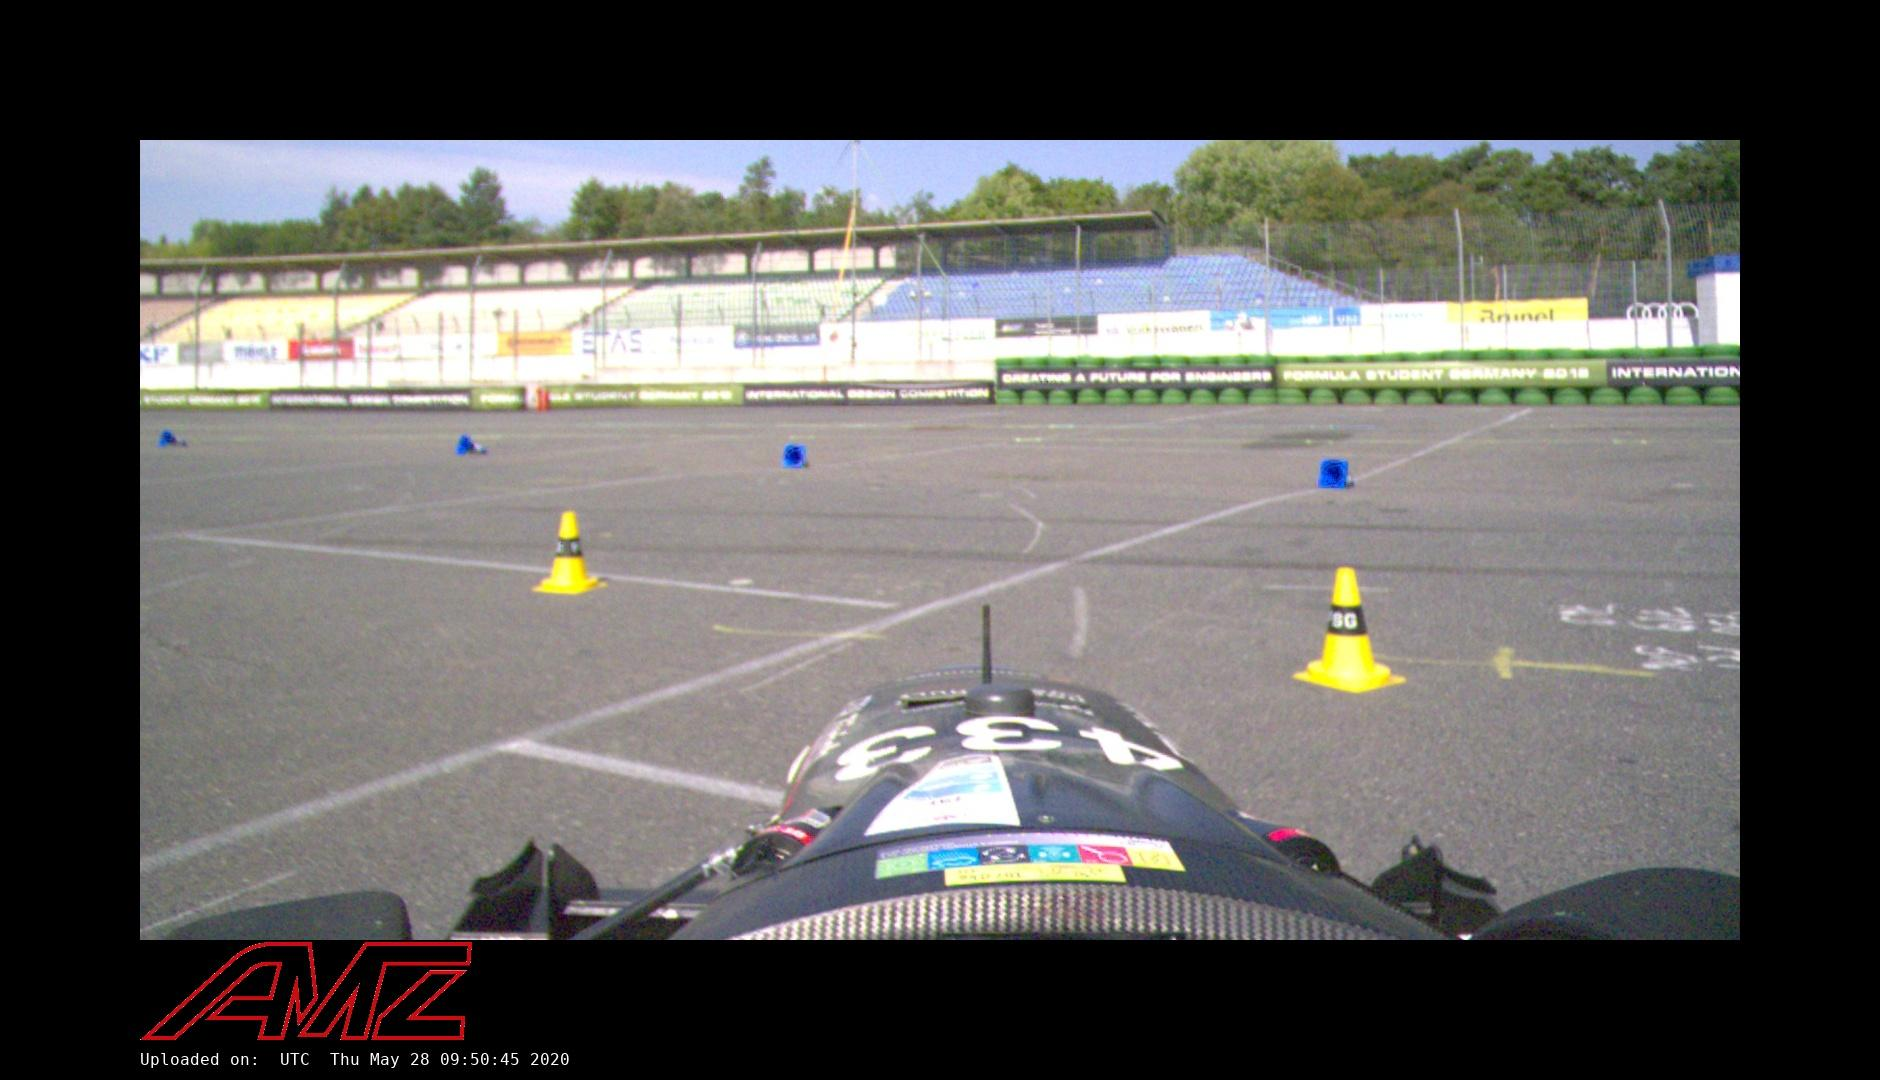blue_cone: (1316, 458, 1357, 489), (780, 443, 810, 469), (454, 435, 488, 456), (157, 429, 189, 449)
yellow_cone: (1291, 564, 1408, 695), (532, 510, 609, 595)
